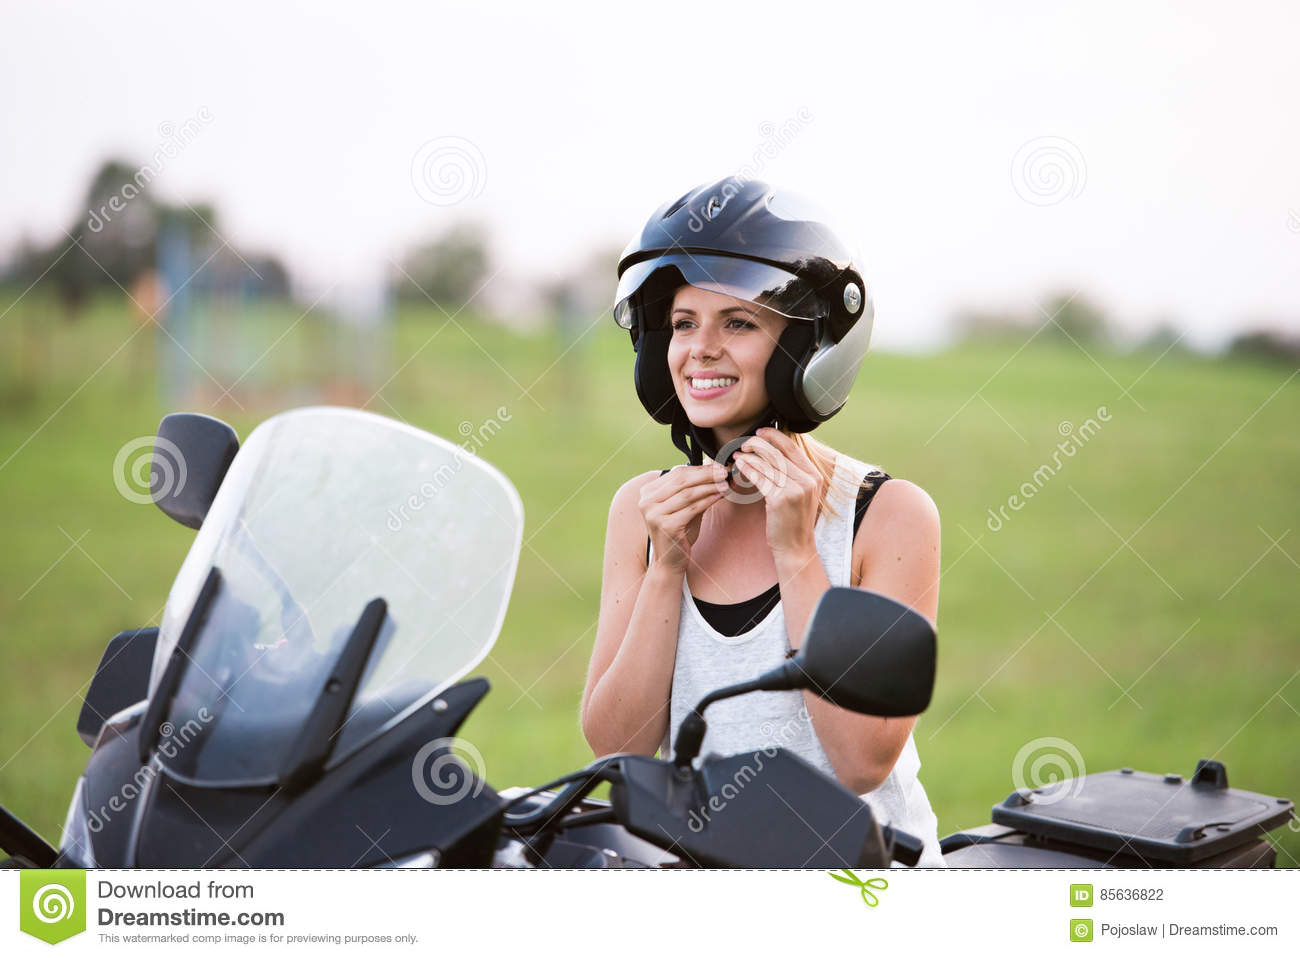helmet: (615, 158, 874, 427)
